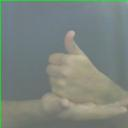hand: (47, 29, 127, 107), (38, 92, 128, 122)
